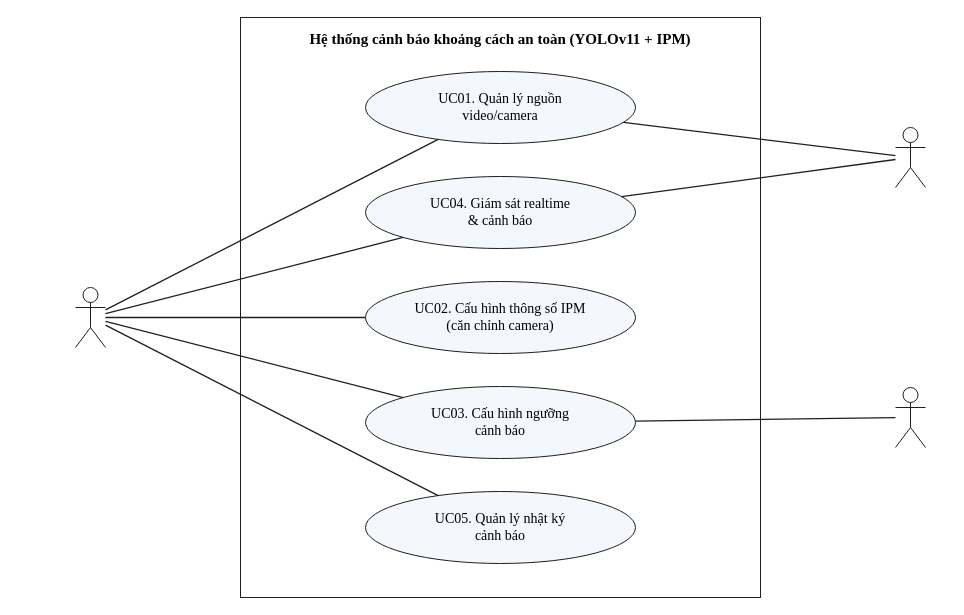
This 964x615 diagram has some shape labels left out. The shapes that lost their labels are listed below. From the top down, each one's centre as x and y in pixels, then its label:
the point at 910,157: Camera / nguồn video
the point at 90,317: Người dùng (tài xế / người vận hành)
the point at 910,417: Dịch vụ Claude API (tùy chọn)
